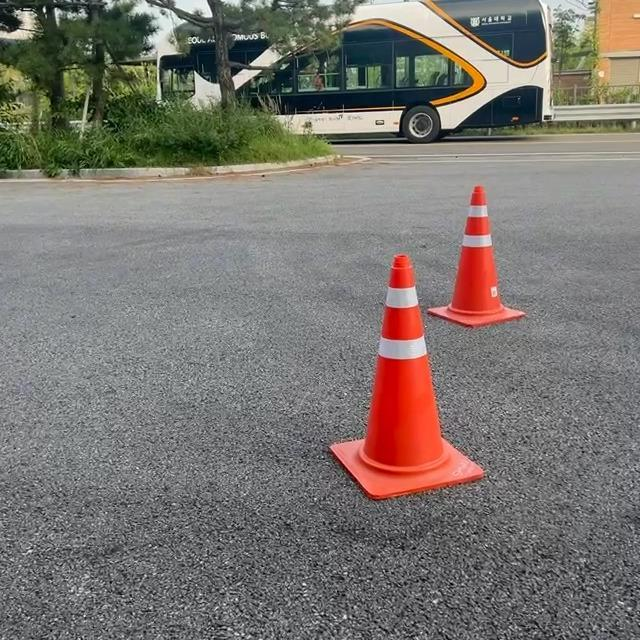fallen_object: (306, 236, 502, 566), (435, 167, 530, 401)
